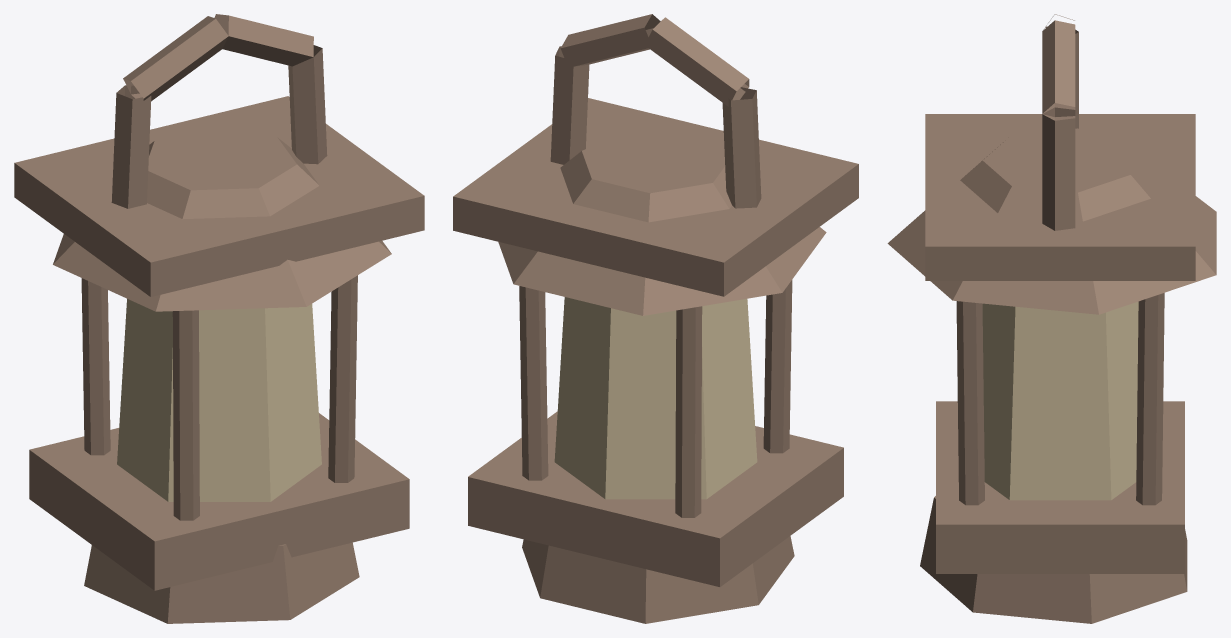
The picture shows the model from 3 angles, left to right: view 1: azimuth 30°, elevation 25°; view 2: azimuth 150°, elevation 25°; view 3: azimuth 270°, elevation 25°; orthographic projection.
Visible parts, largest first — view 1: C14; view 2: C14; view 3: C14.
Boxes of the visible parts, x1,y1,x2,y2 form: C14: [14, 14, 424, 623]; C14: [453, 14, 858, 623]; C14: [887, 14, 1216, 623].
Size of the model in its own units: 0.312 by 0.5598 by 0.3042.
